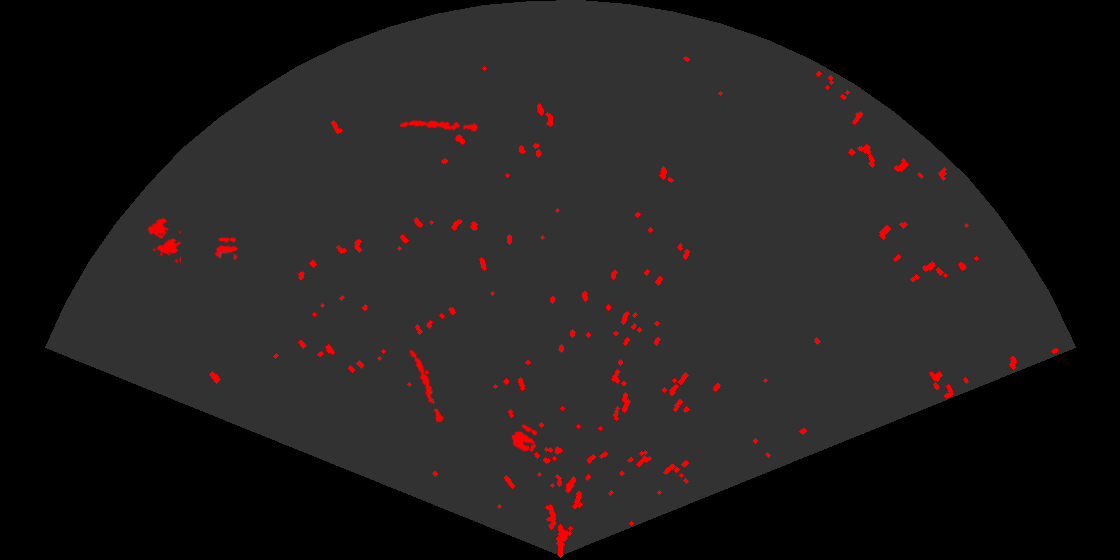ball: (510, 423, 539, 453), (214, 236, 240, 262)
cage: (146, 216, 181, 263)
chain: (408, 348, 446, 426), (398, 118, 480, 133)
